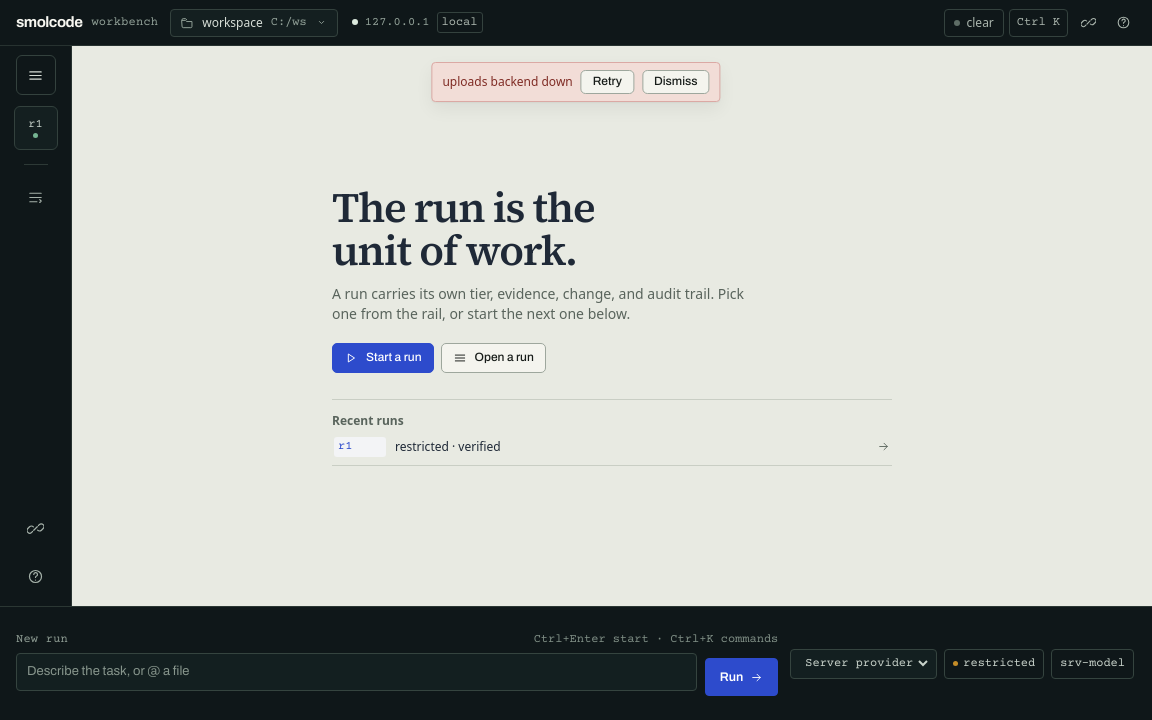
Test: ADR0040-2 error channels are separate › a transient error can be dismissed without retrying
Click the button with aria-label "dismiss error".
click(676, 82)  # box 642,70 -> 710,94
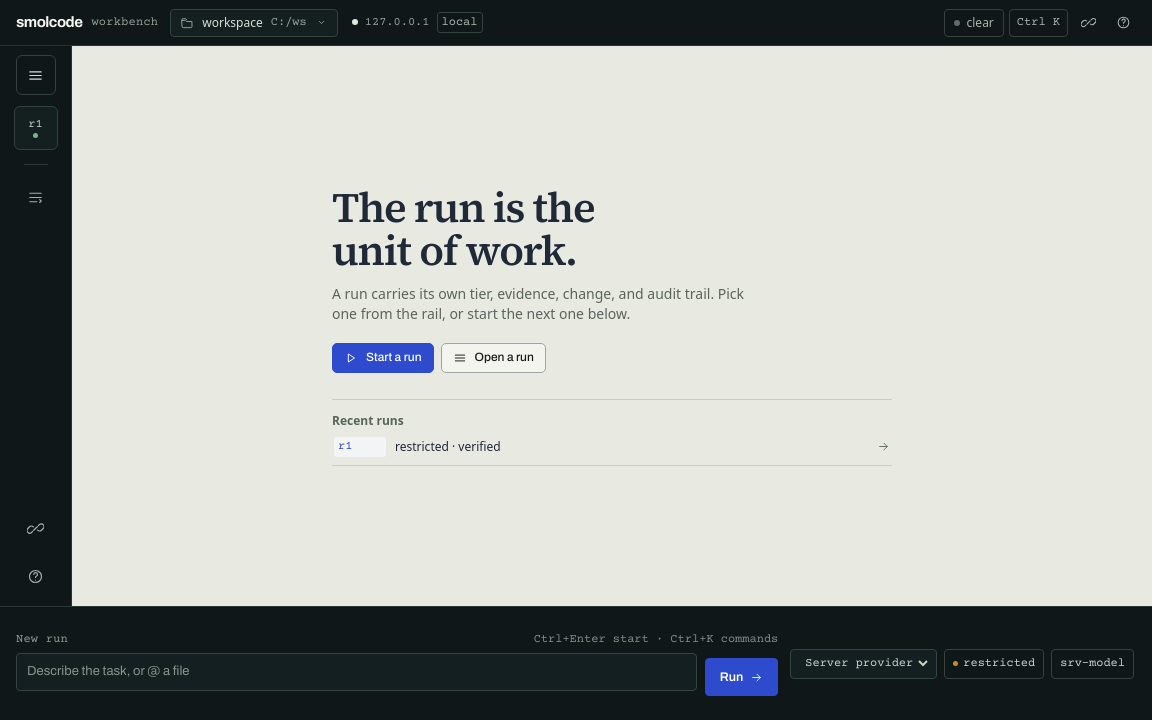
expect the text "uploads backend down" is gone: met
